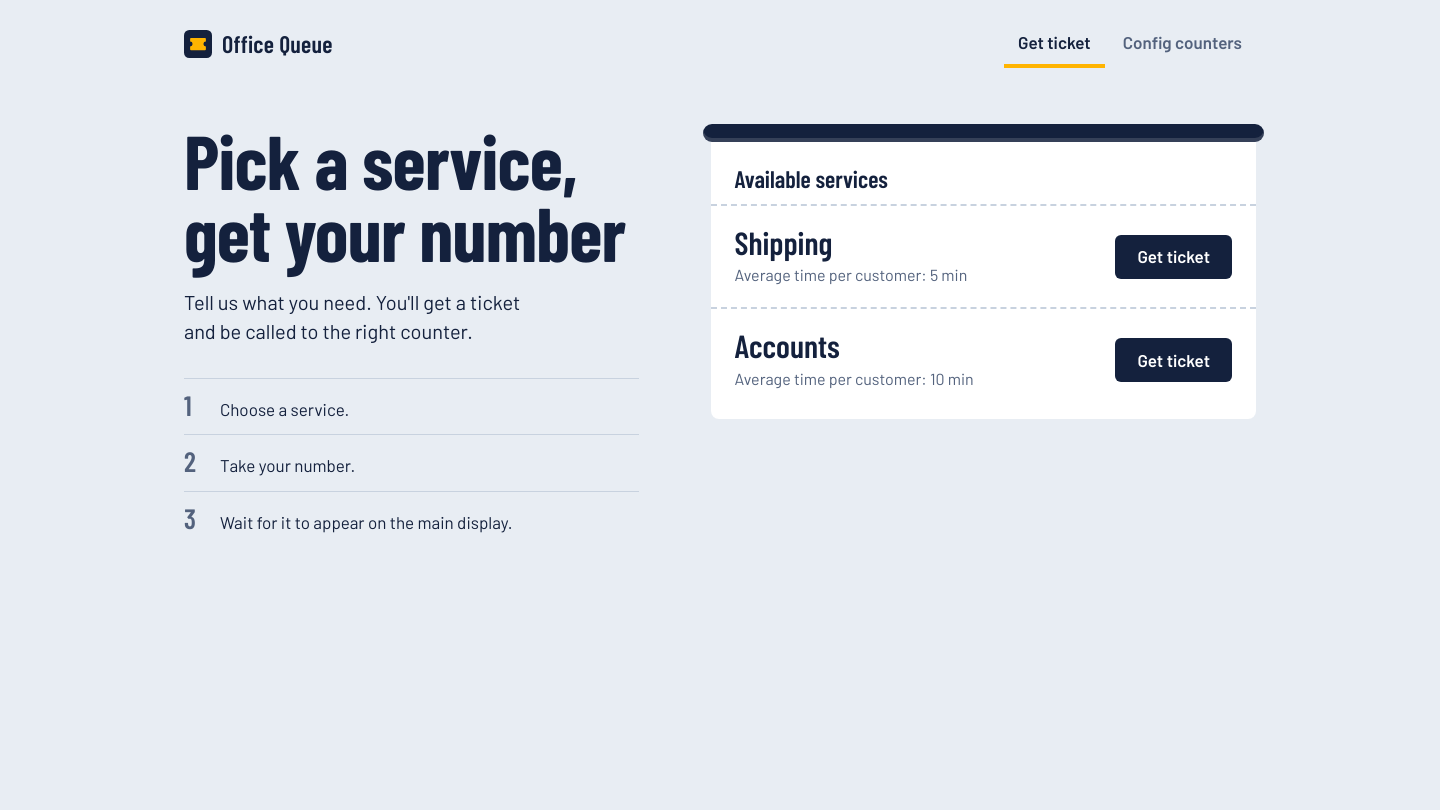
Scenario: landing page › refreshes the ticket status on request
Click the button with aria-label "Get ticket for Shipping" at (1174, 257), box [1115,235,1232,279]
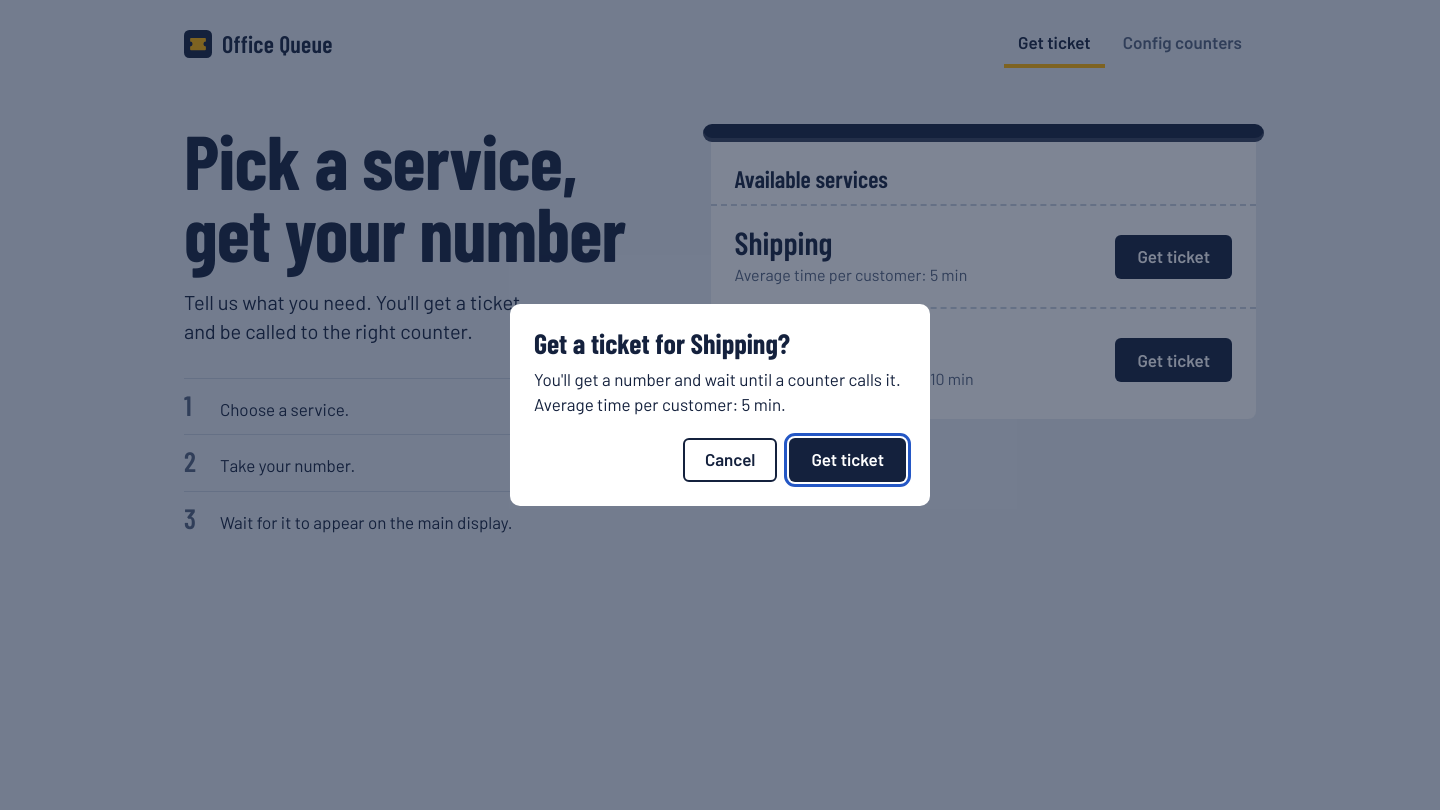
Click the button "Get ticket" at (848, 460), box [789,438,906,482]
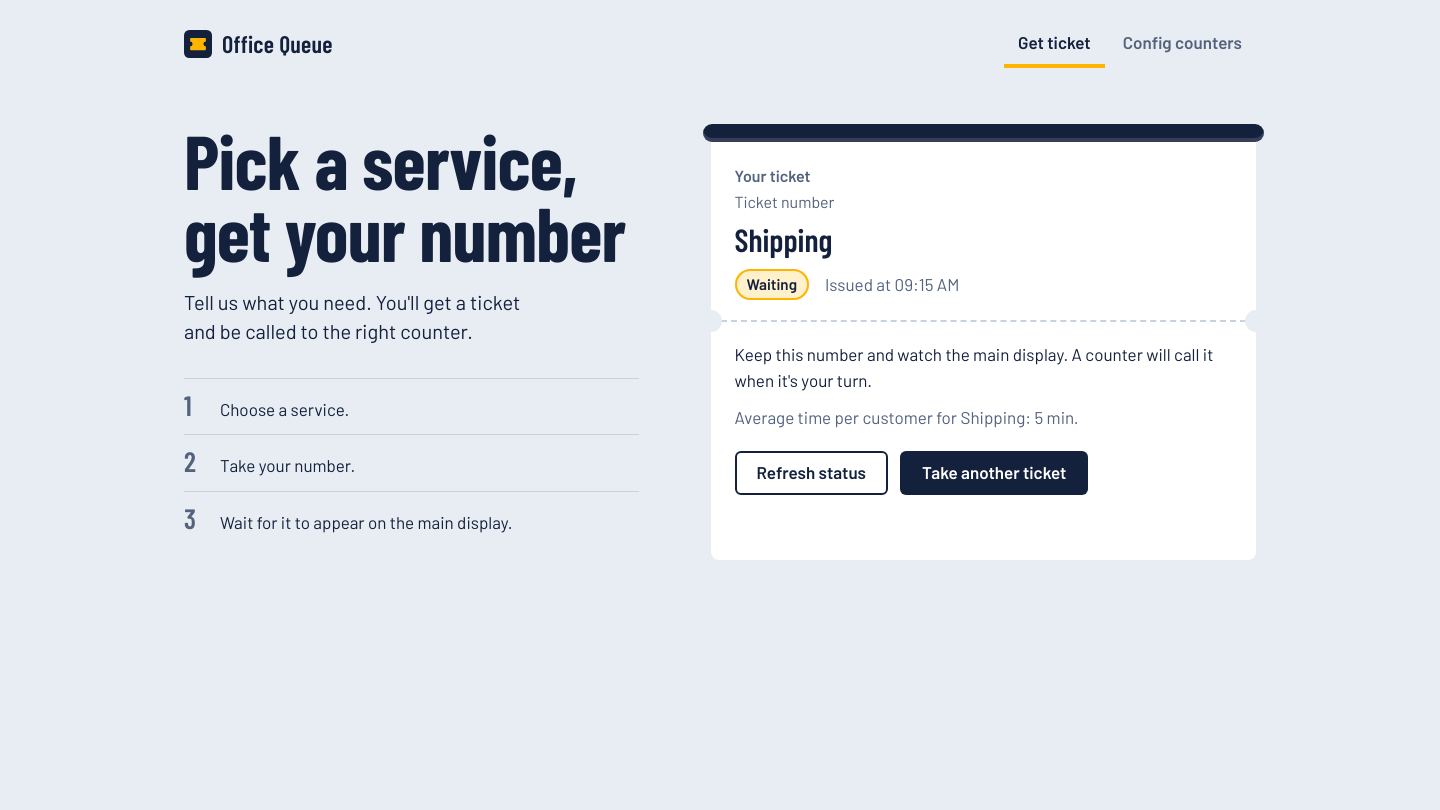
Click the button "Refresh status" at (811, 473), box [734,451,888,495]
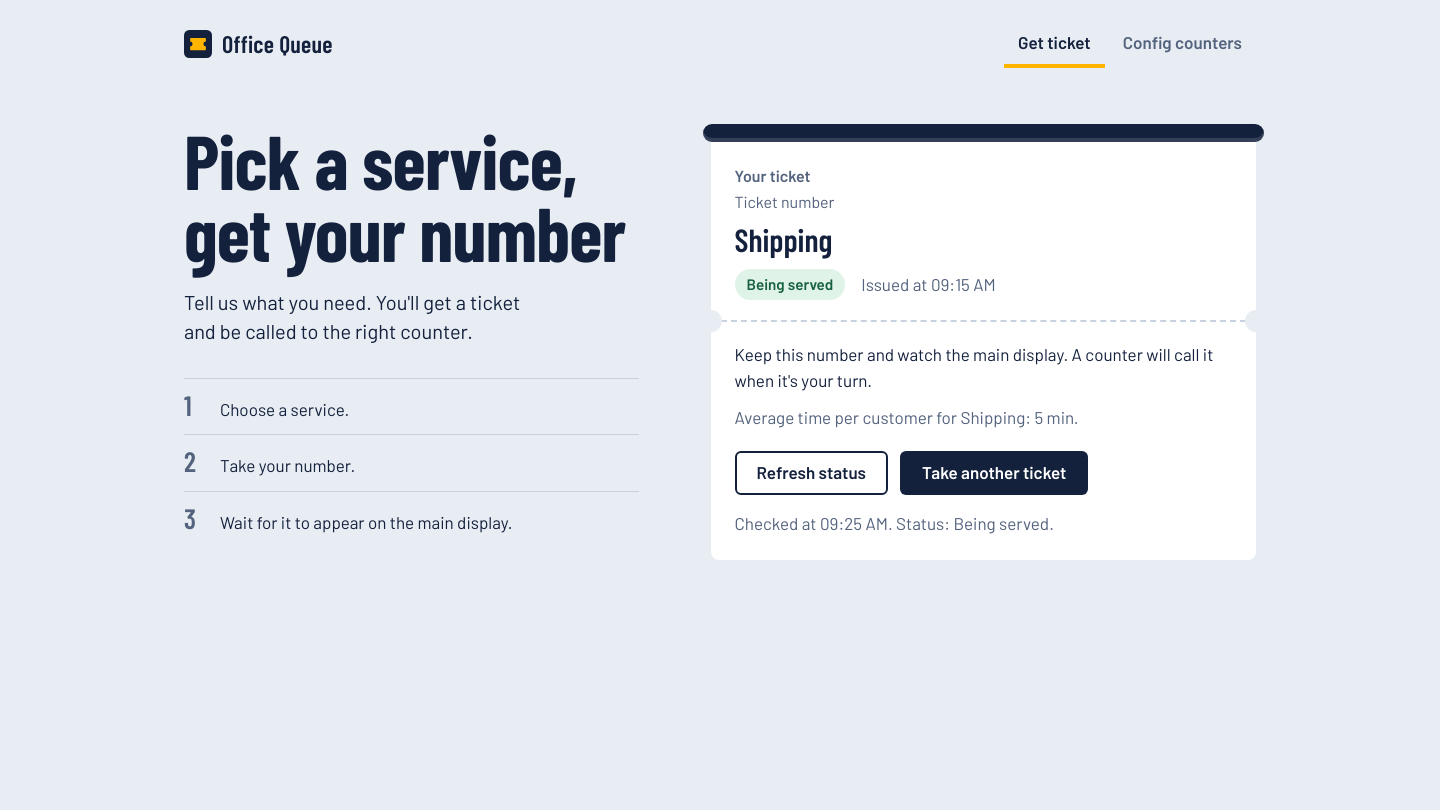
Expected: the text "Being served" is shown, [734,270,845,300]
Expected: the text "Checked at 09:25 AM. Status: Being served." is shown, [734,513,1054,533]
